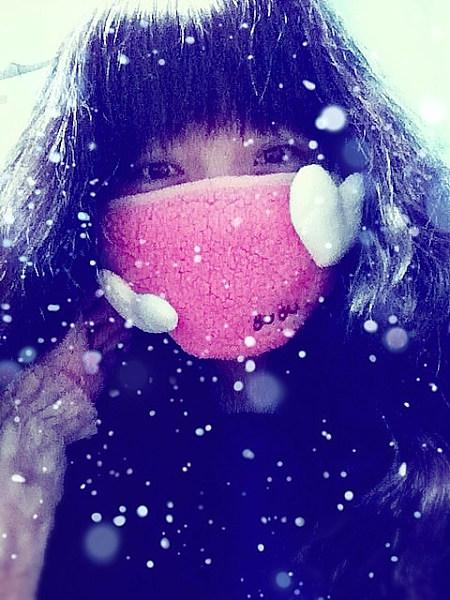OK: (109, 121, 353, 365)
